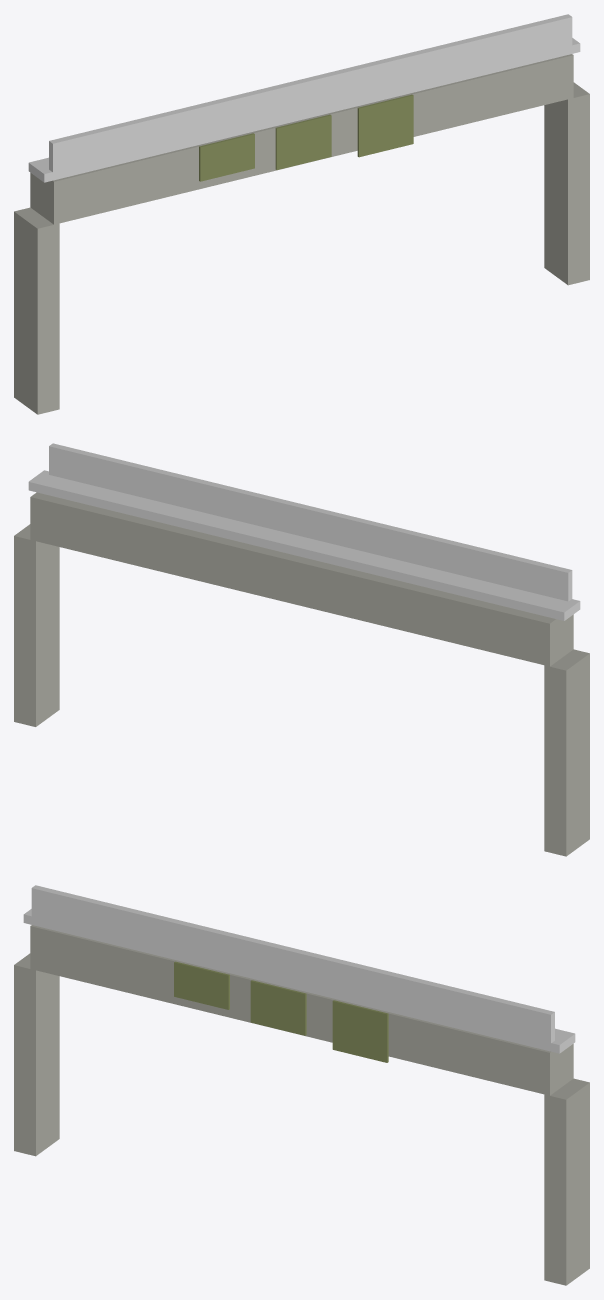
Rendered from SM_MuroTrinchera_Boca_v4_Hiedra_LOD1.fbx.
3 renders of one model, top to bottom at view 1: azimuth 30°, elevation 25°; view 2: azimuth 150°, elevation 25°; view 3: azimuth 330°, elevation 25°, orthographic.
Parts seen in each view (by area): view 1: SM_muro_trinchera_v9_LOD1; view 2: SM_muro_trinchera_v9_LOD1; view 3: SM_muro_trinchera_v9_LOD1.
Boxes of the visible parts, <box> form: SM_muro_trinchera_v9_LOD1: <box>14,14,589,414</box>; SM_muro_trinchera_v9_LOD1: <box>14,443,589,856</box>; SM_muro_trinchera_v9_LOD1: <box>14,885,589,1285</box>.
Size of the model in its own units: 20.2 by 9.3 by 1.58.
